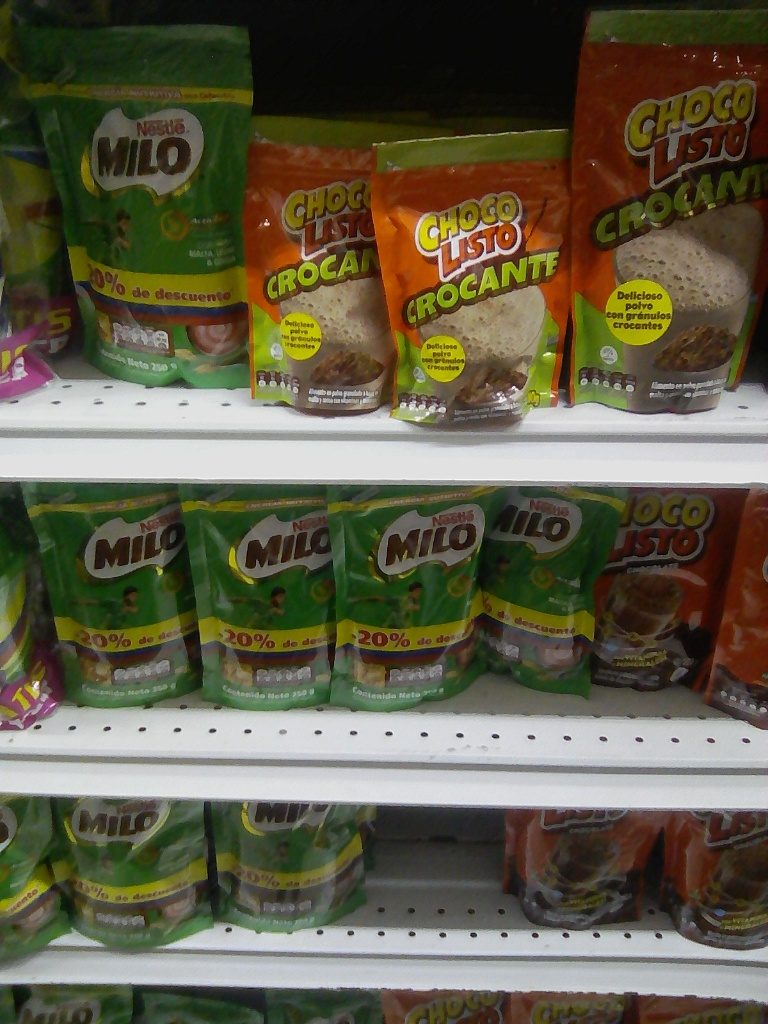COL0170102DYP10000: (232, 112, 413, 421)
COL0170102DYP25000: (567, 3, 763, 431)
COL0170103DYP20000: (589, 477, 745, 726)
COL0170203DYP25000: (33, 15, 263, 416)
